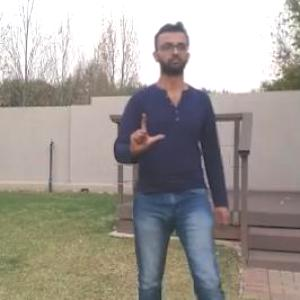land_hand: (125, 104, 173, 158)
